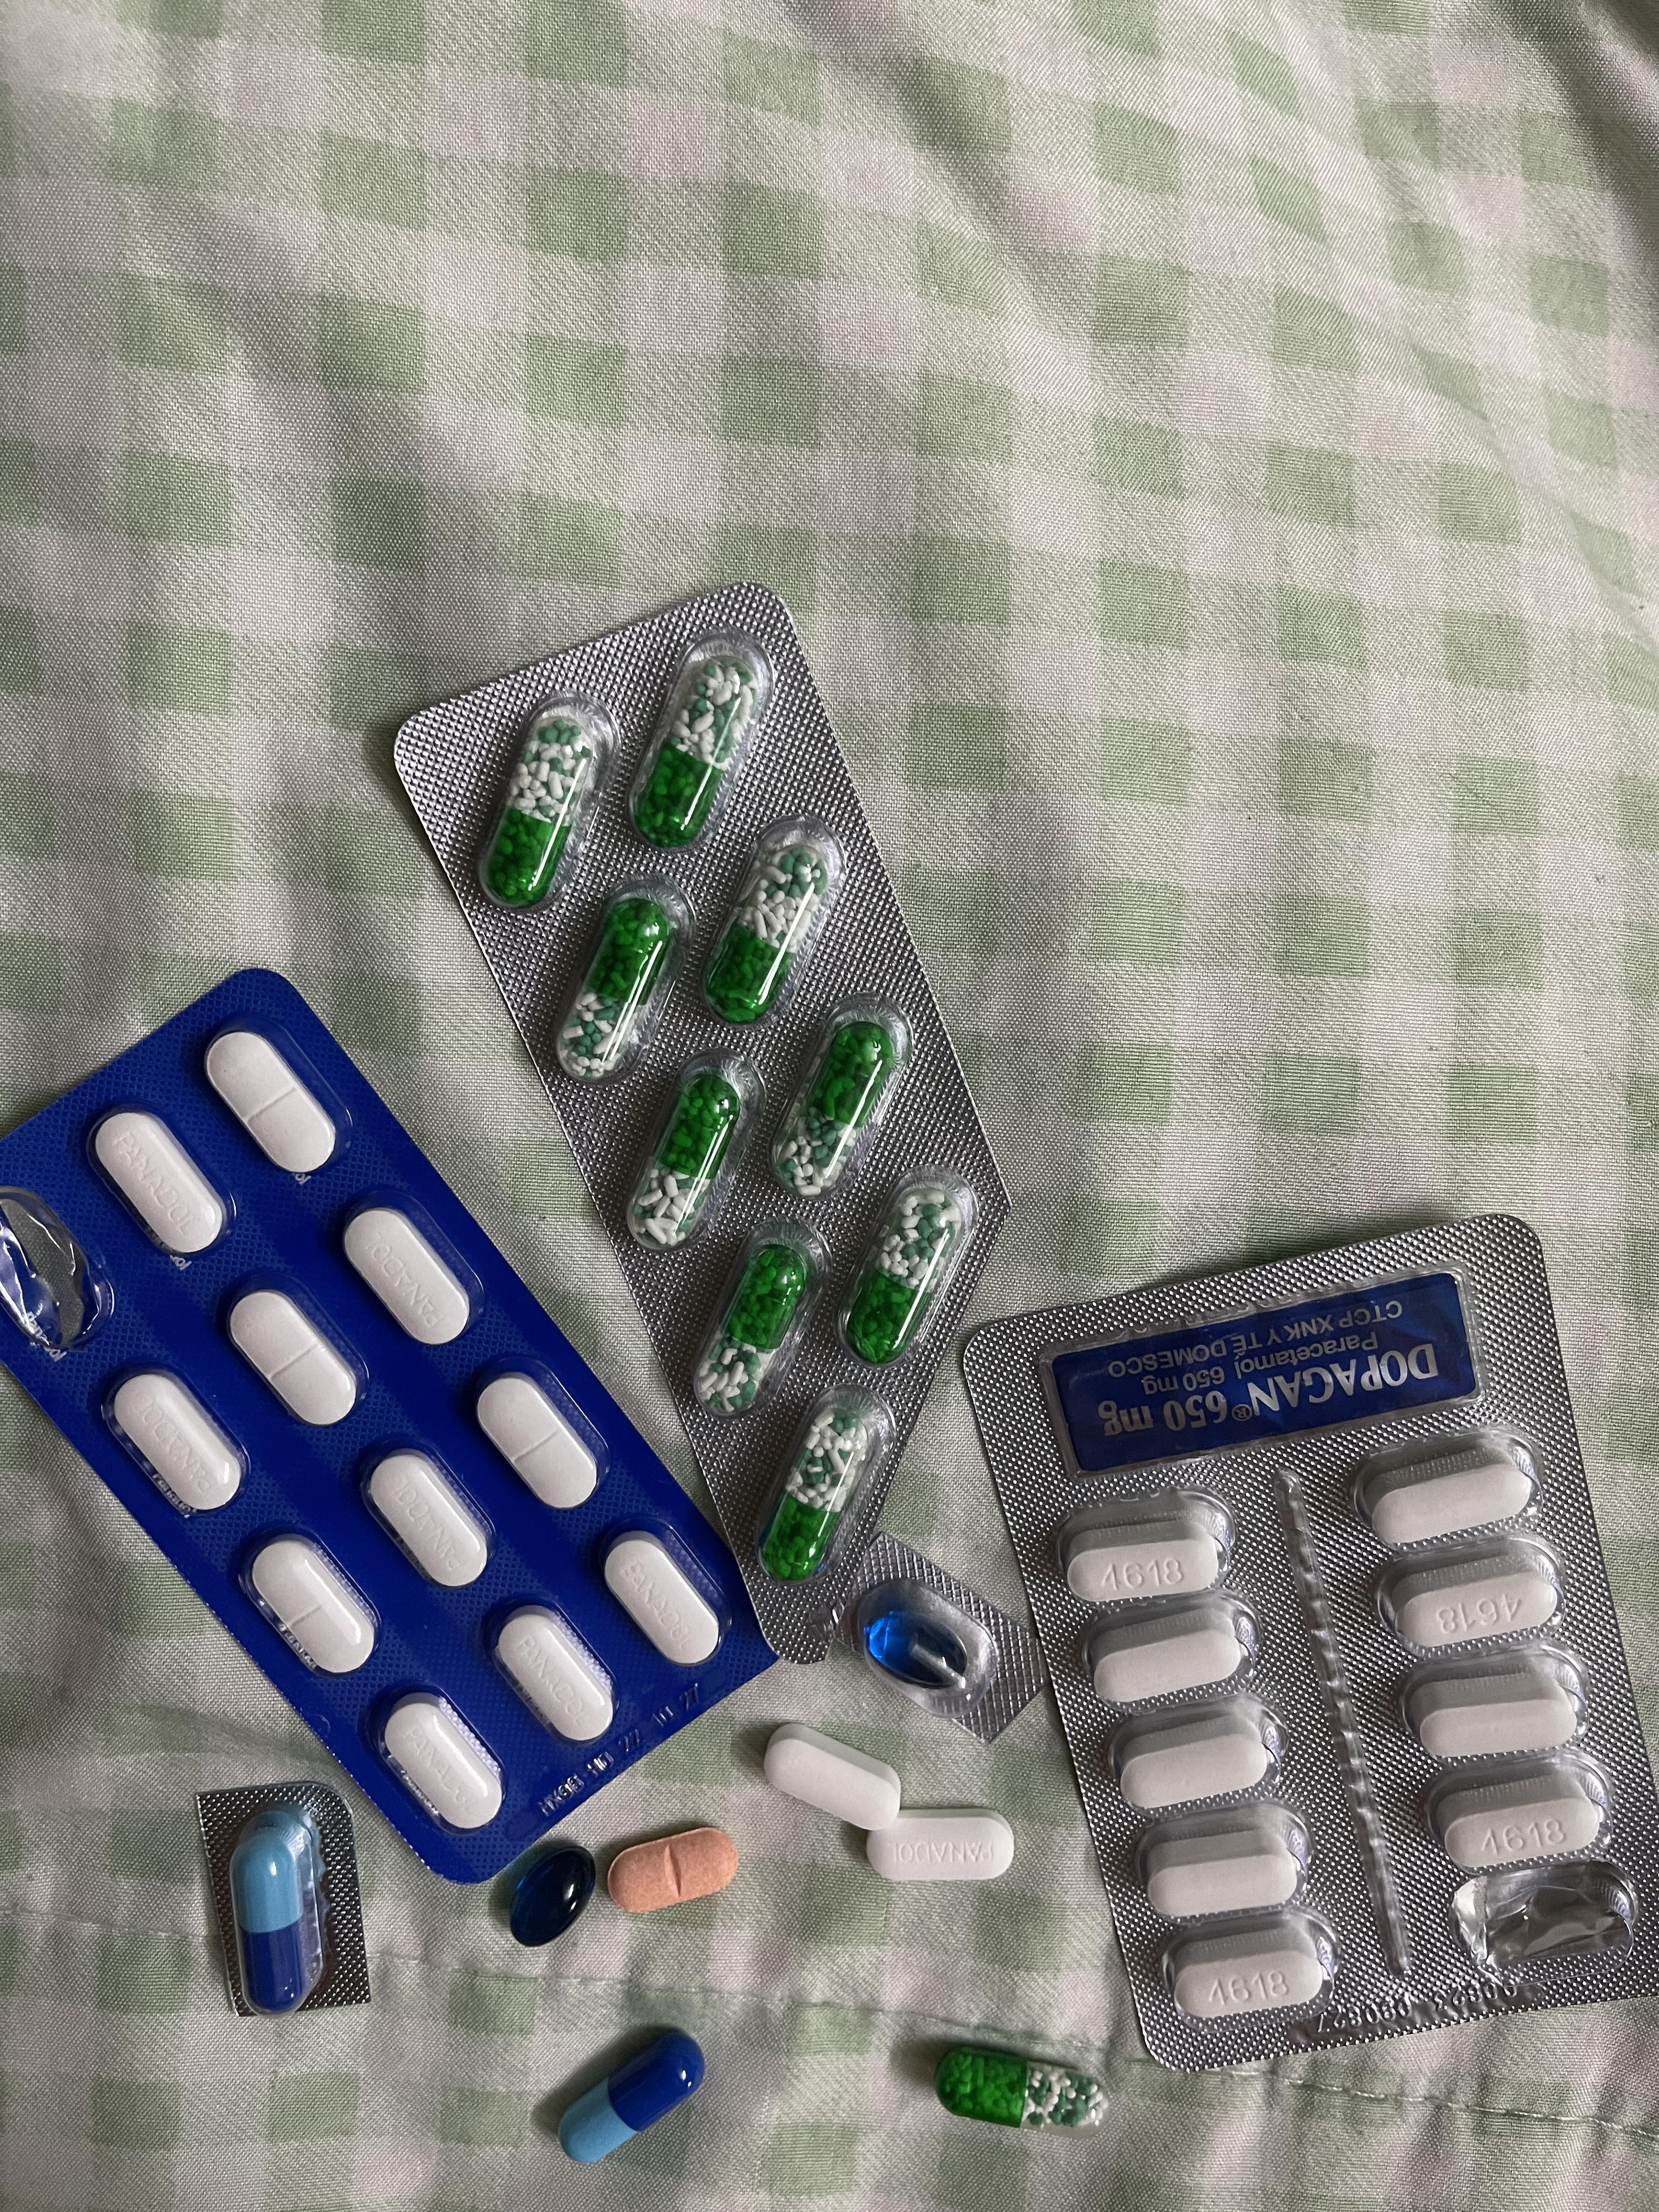Lincomyxin_500mg: (509, 1844, 598, 1949), (866, 1608, 974, 1689)
Loratadine_10mg: (608, 1825, 741, 1914)
Paracetamol_350mg: (91, 1108, 234, 1259), (103, 1362, 246, 1512), (340, 1195, 481, 1345), (223, 1285, 361, 1435), (361, 1442, 497, 1590), (207, 1031, 342, 1181), (239, 1531, 376, 1674), (375, 1688, 507, 1832), (471, 1374, 601, 1515), (596, 1524, 728, 1660), (491, 1606, 617, 1745), (871, 1811, 1016, 1886)
Paracetamol_500mg: (1063, 1484, 1222, 1601), (1110, 1696, 1276, 1806), (1387, 1569, 1561, 1660), (1363, 1456, 1535, 1545), (1438, 1785, 1608, 1874), (1089, 1615, 1249, 1709), (765, 1724, 897, 1832), (1173, 1937, 1326, 2020), (1145, 1844, 1304, 1921), (1413, 1693, 1581, 1764)
Paracetamol_650mg: (629, 634, 774, 853), (479, 691, 617, 913), (554, 876, 690, 1080), (765, 1001, 904, 1197), (624, 1055, 763, 1244), (838, 1169, 974, 1360), (688, 1224, 824, 1406), (746, 1397, 885, 1568), (706, 843, 830, 1021), (938, 2047, 1100, 2132)
pill: (232, 1804, 329, 2020), (558, 2027, 708, 2158)
